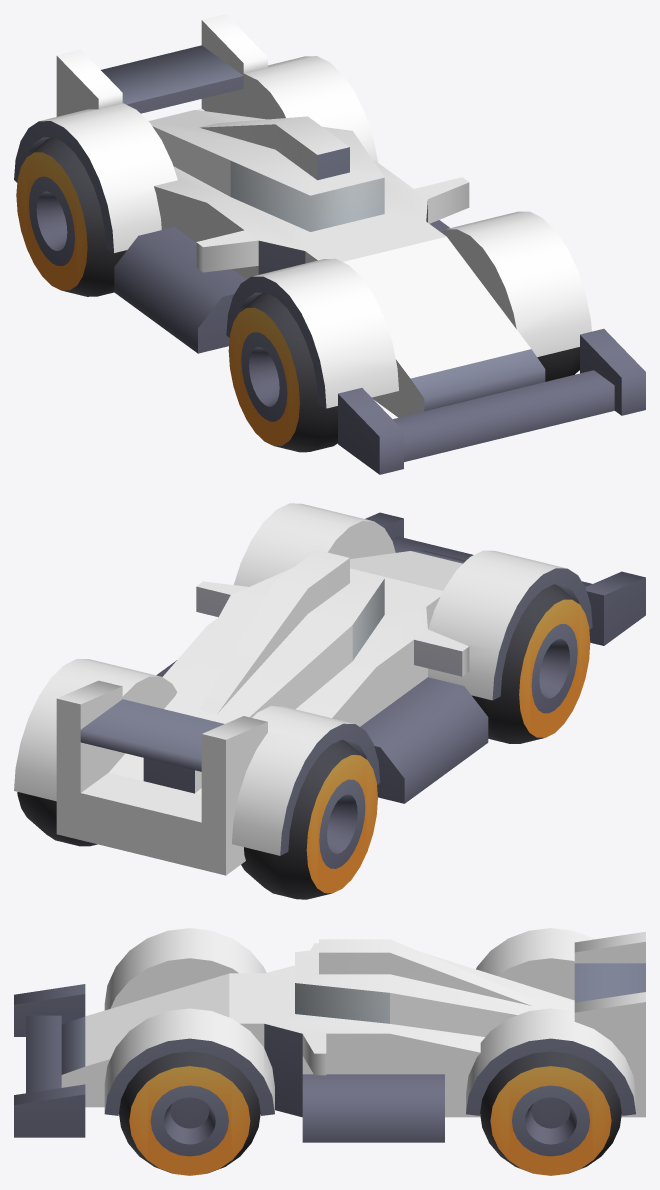
Rendered from race-future.glb.
3 renders of one model, top to bottom at view 1: azimuth 30°, elevation 25°; view 2: azimuth 150°, elevation 25°; view 3: azimuth 270°, elevation 25°, orthographic. The views are drawn at different scales.
Visible parts, largest first — view 1: body, wheel-front-right, wheel-back-right, wheel-front-left; view 2: body, wheel-back-right, wheel-front-right, wheel-back-left; view 3: body, wheel-back-left, wheel-front-left.
Part boxes in pixels (x1=…): body: x1=14, y1=14, x2=645, y2=474; wheel-front-right: x1=228, y1=292, x2=337, y2=452; wheel-back-right: x1=16, y1=137, x2=126, y2=296; wheel-front-left: x1=537, y1=347, x2=579, y2=381; body: x1=14, y1=503, x2=645, y2=875; wheel-back-right: x1=241, y1=740, x2=377, y2=899; wheel-front-right: x1=472, y1=584, x2=590, y2=743; wheel-back-left: x1=17, y1=792, x2=97, y2=846; body: x1=14, y1=928, x2=645, y2=1142; wheel-back-left: x1=480, y1=1051, x2=621, y2=1175; wheel-front-left: x1=119, y1=1051, x2=260, y2=1175.
Bounding box in the file's own units: 1.2 × 0.8325 × 2.66.
2 materials, 1 textured.
